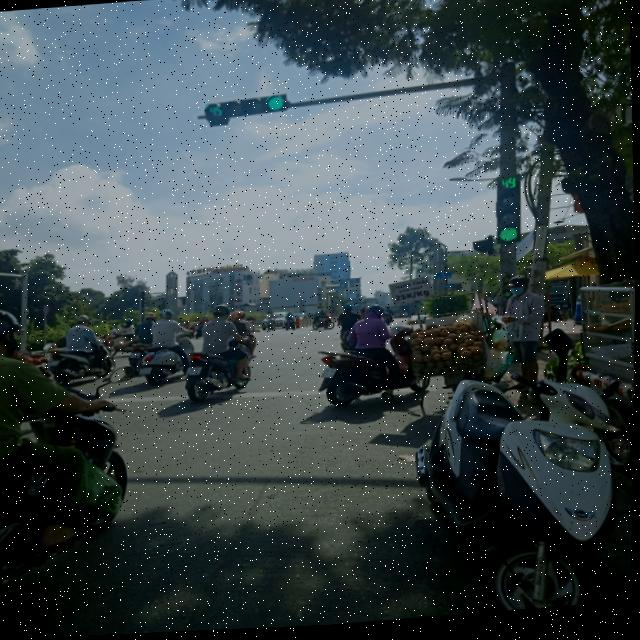Green: (220, 92, 292, 125), (491, 192, 530, 251)
